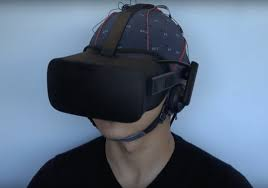oculus: (46, 44, 186, 124)
